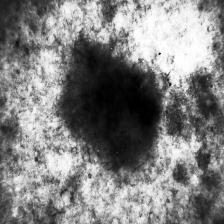Benign Marking or Mole: (65, 42, 158, 164)
